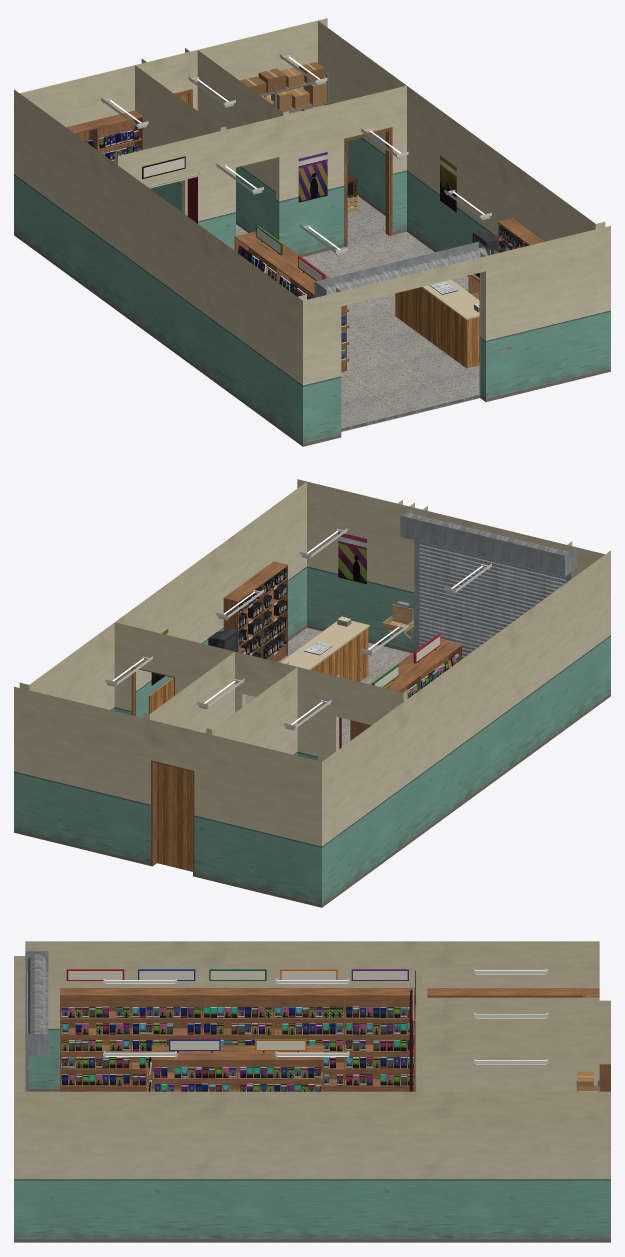
File: store.gltf
3 views of the same model, one above another, from view 1: azimuth 30°, elevation 25°; view 2: azimuth 150°, elevation 25°; view 3: azimuth 270°, elevation 25° (orthographic). The views are drawn at different scales.
Visible parts, largest first — view 1: Walls, Floor, Counter, SteelDoor, StorageBoxes, Gondola, Posters, LightFixtures, AdultShelves, Covers, StorageDoor, Signs (+1 smaller); view 2: Walls, SteelDoor, BackDoor, Counter, RackTapes, TapeRack, LightFixtures, Gondola, Floor, Posters, StorageDoor, Signs (+1 smaller); view 3: Walls, WallShelf, Covers, Gondola, Signs, SteelDoor, LightFixtures, AdultShelves, Curtain.
Boxes of the visible parts, left/top/right/bottom form: Walls: left=14, top=18, right=610, bottom=446; Floor: left=236, top=196, right=479, bottom=431; Counter: left=395, top=279, right=479, bottom=368; SteelDoor: left=314, top=241, right=490, bottom=431; StorageBoxes: left=240, top=62, right=326, bottom=114; Gondola: left=234, top=226, right=349, bottom=372; Posters: left=298, top=150, right=456, bottom=212; LightFixtures: left=101, top=54, right=491, bottom=255; AdultShelves: left=66, top=110, right=143, bottom=162; Covers: left=86, top=129, right=346, bottom=360; StorageDoor: left=344, top=127, right=392, bottom=246; Signs: left=142, top=156, right=325, bottom=280; Walls: left=14, top=479, right=610, bottom=907; SteelDoor: left=400, top=507, right=576, bottom=658; BackDoor: left=151, top=760, right=194, bottom=876; Counter: left=280, top=620, right=369, bottom=681; RackTapes: left=238, top=568, right=287, bottom=658; TapeRack: left=223, top=561, right=287, bottom=661; LightFixtures: left=105, top=528, right=491, bottom=730; Gondola: left=350, top=634, right=462, bottom=740; Floor: left=245, top=627, right=411, bottom=746; Posters: left=151, top=532, right=366, bottom=685; StorageDoor: left=131, top=667, right=174, bottom=716; Signs: left=372, top=634, right=440, bottom=687; Walls: left=14, top=941, right=610, bottom=1242; WallShelf: left=60, top=988, right=415, bottom=1091; Covers: left=61, top=1006, right=413, bottom=1091; Gondola: left=146, top=1038, right=323, bottom=1091; Signs: left=66, top=969, right=415, bottom=1050; SteelDoor: left=25, top=951, right=49, bottom=1091; LightFixtures: left=103, top=969, right=548, bottom=1065; AdultShelves: left=427, top=988, right=599, bottom=997; Curtain: left=409, top=986, right=415, bottom=1091.
Size of what is drawn, in the model's own units: 6.4 by 2.9 by 10.4.
12 materials, 10 textured.
